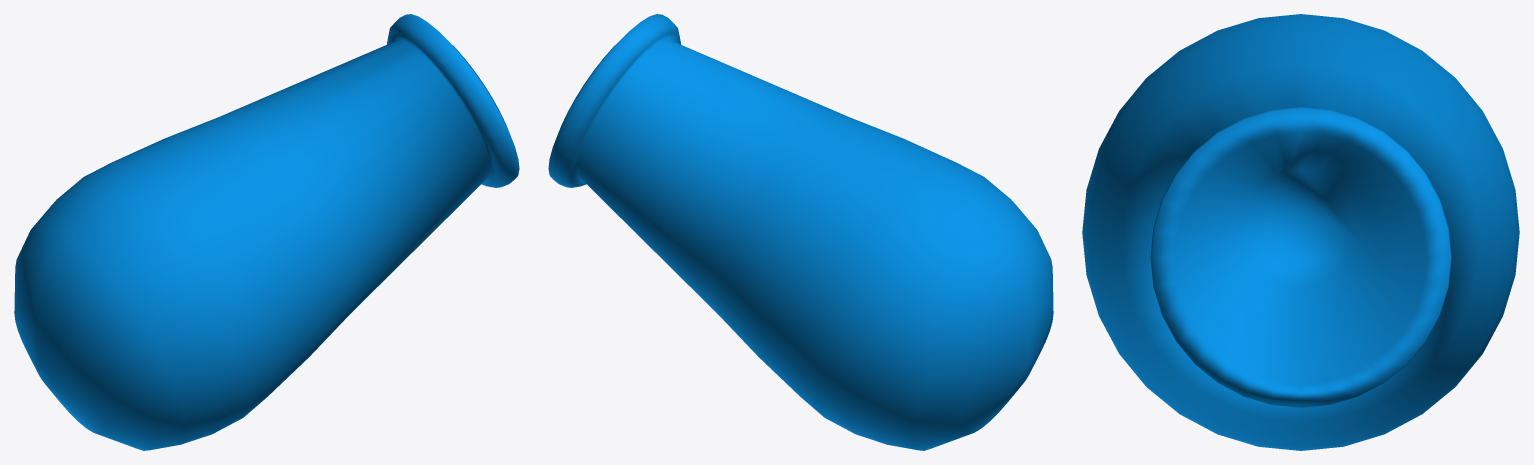
The model's file is cannon.fbx.
3 renders of one model, left to right at view 1: azimuth 30°, elevation 25°; view 2: azimuth 150°, elevation 25°; view 3: azimuth 270°, elevation 25°, orthographic. The views are drawn at different scales.
Visible parts, largest first — view 1: Cylinder.002; view 2: Cylinder.002; view 3: Cylinder.002.
Part boxes in pixels (bbox=[...]): Cylinder.002: bbox=[14, 14, 519, 450]; Cylinder.002: bbox=[548, 14, 1053, 450]; Cylinder.002: bbox=[1082, 14, 1519, 450].
Bounding box in the file's own units: 756 × 545 × 414.
